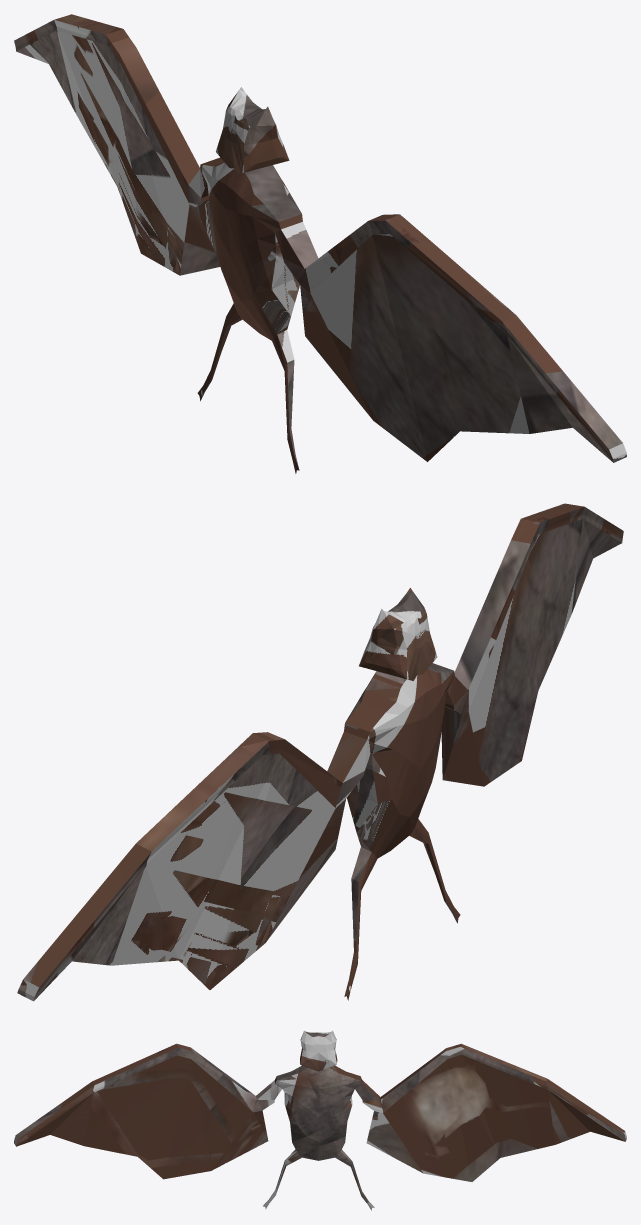
File: Enemigo127.obj
3 renders of one model, top to bottom at view 1: azimuth 30°, elevation 25°; view 2: azimuth 150°, elevation 25°; view 3: azimuth 270°, elevation 25°, orthographic. The views are drawn at different scales.
Parts seen in each view (by area): view 1: Plano; view 2: Plano; view 3: Plano.
Part boxes in pixels (box(x1,y1,x2,y2)): Plano: box(14, 14, 626, 473); Plano: box(17, 503, 623, 1001); Plano: box(14, 1030, 626, 1210).
Size of the model in its own units: 0.2739 by 0.7571 by 2.32.
Materials: 1 (1 with a texture image).
